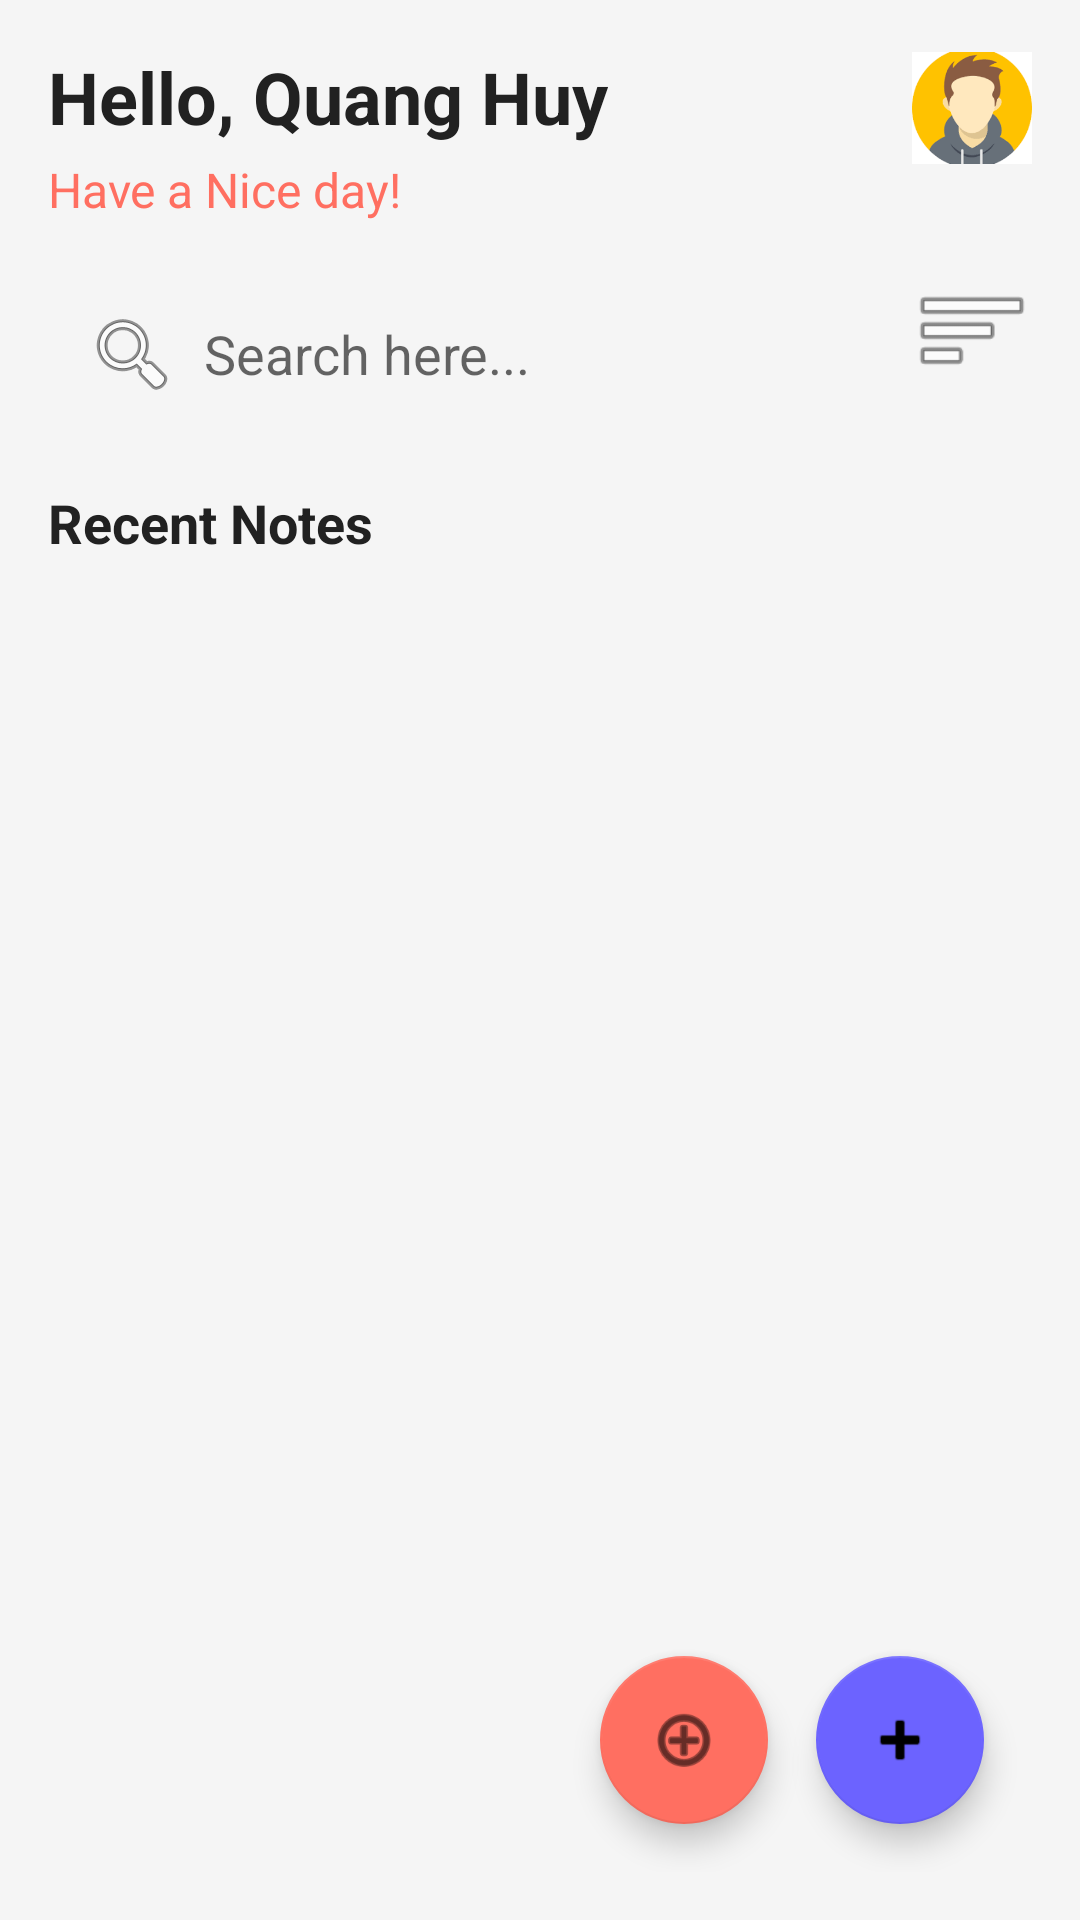

Where to tap for icons on this 1080 × 1920 app screen, as (x,y):
add: (684,1740), (900,1740)
sort by size: (972,330)
